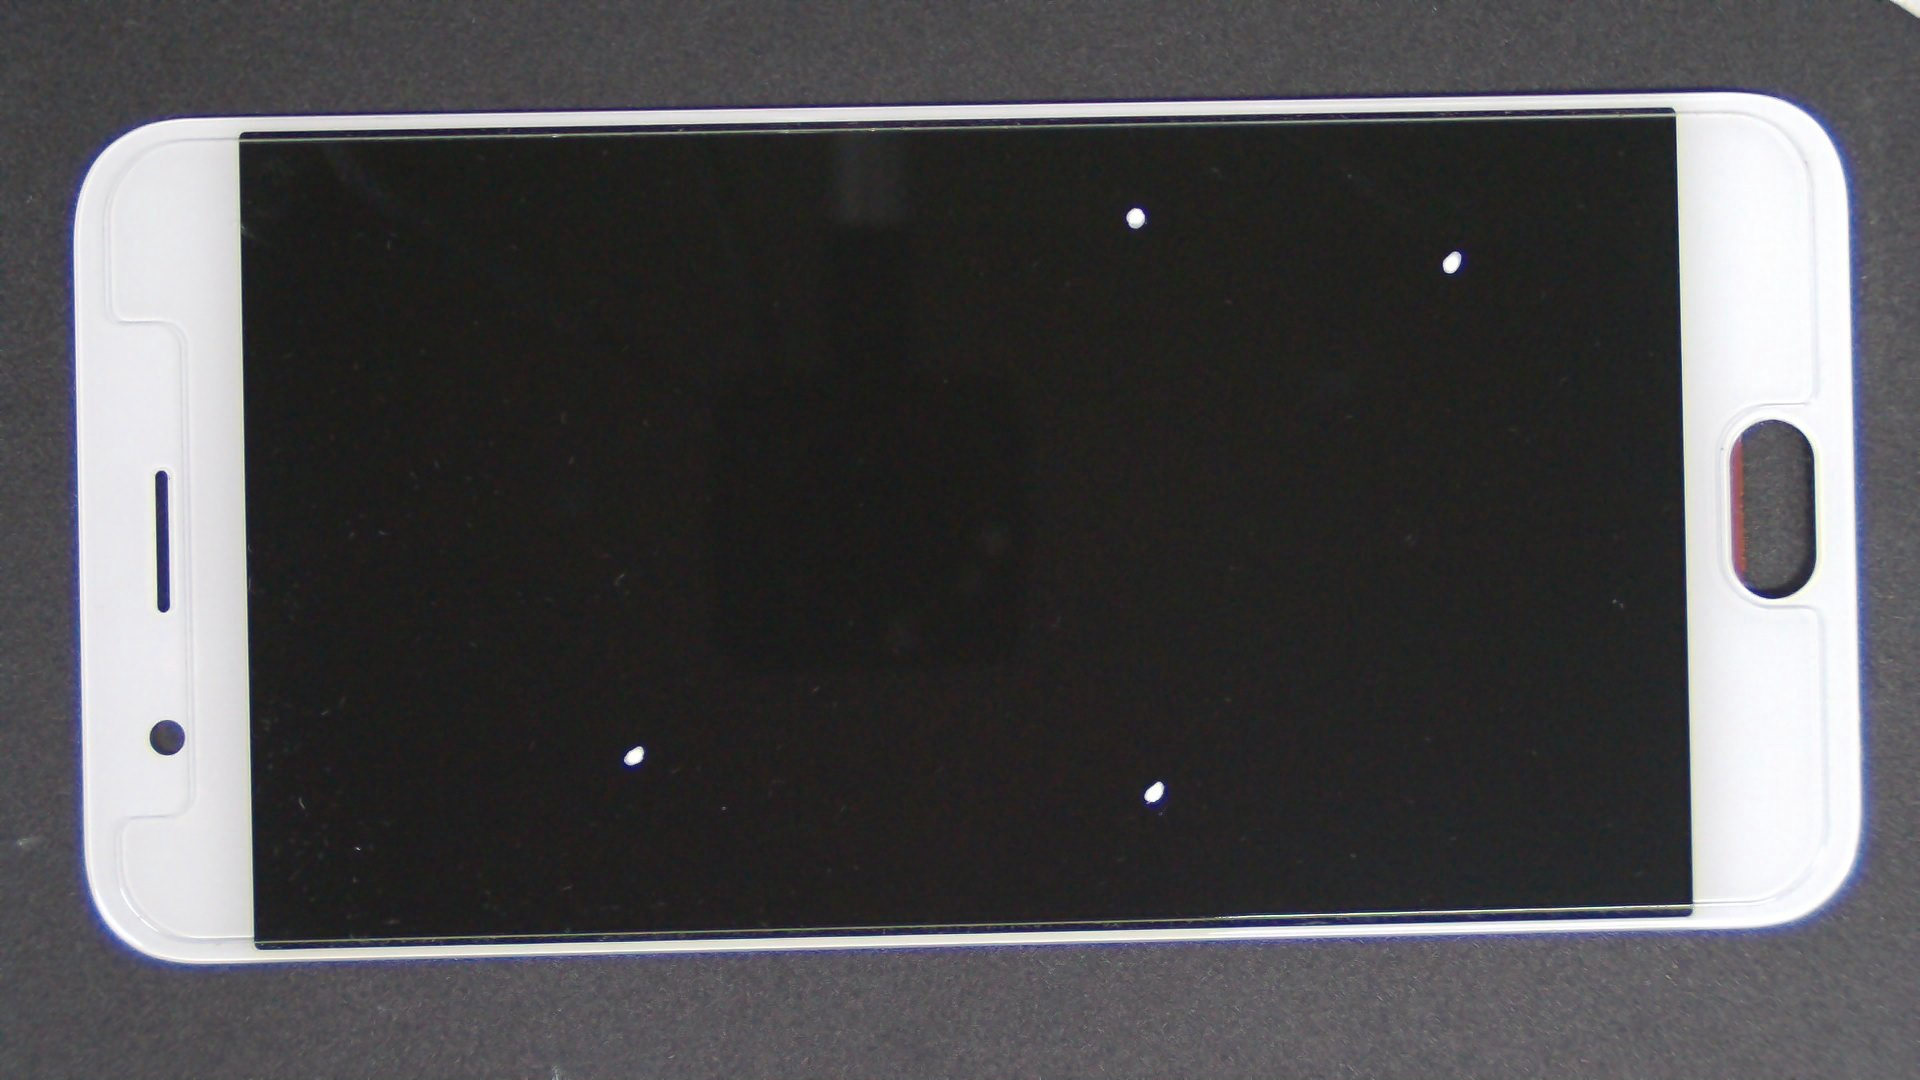oil: (580, 389, 1739, 1080), (319, 372, 955, 1080), (729, 124, 1920, 375), (567, 103, 1701, 310)
